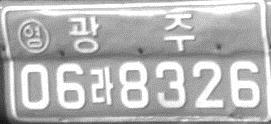0: (20, 62, 50, 110)
2: (191, 60, 224, 109)
3: (154, 60, 186, 109)
6: (228, 59, 261, 109), (55, 62, 85, 110)
8: (117, 61, 150, 109)
광주_D: (67, 12, 195, 54)
라: (89, 66, 114, 106)
영: (17, 17, 50, 53)
